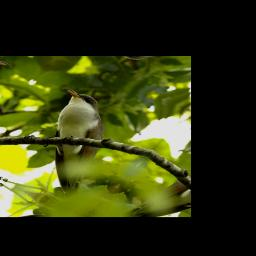Cuckoo: (0, 85, 151, 200)
